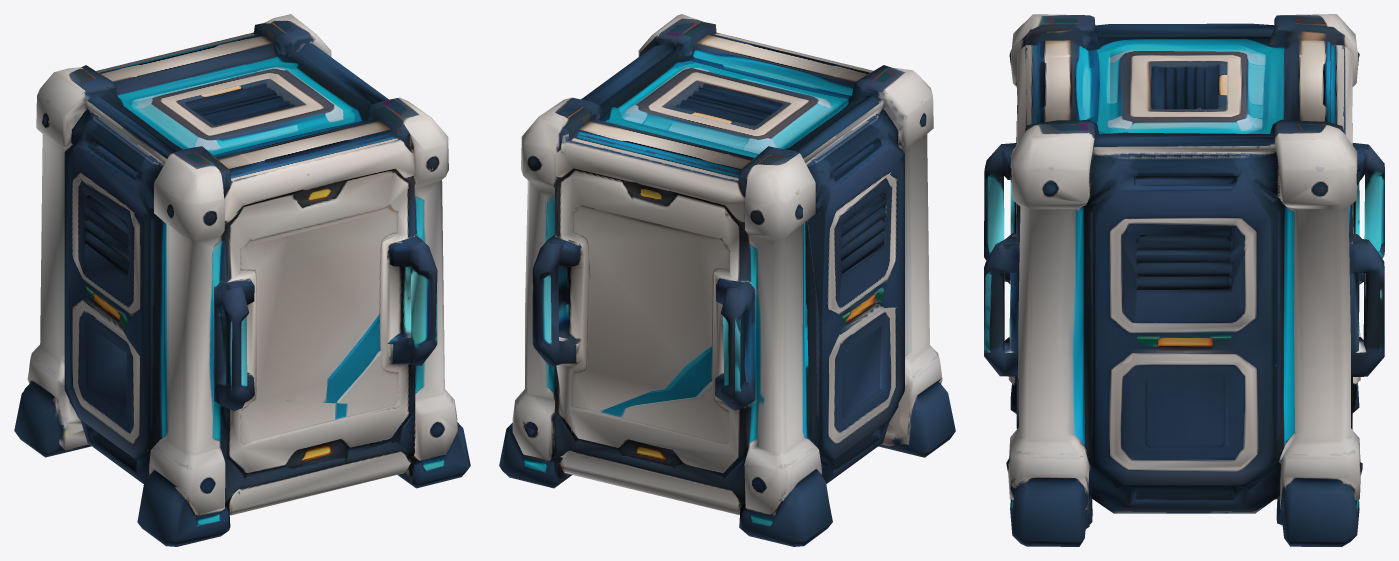
The model's file is cryo-relay-cabinet_LOD0.glb.
3 renders of one model, left to right at view 1: azimuth 30°, elevation 25°; view 2: azimuth 150°, elevation 25°; view 3: azimuth 270°, elevation 25°, orthographic. The views are drawn at different scales.
Parts seen in each view (by area): view 1: cryo-relay-cabinet_LOD0; view 2: cryo-relay-cabinet_LOD0; view 3: cryo-relay-cabinet_LOD0.
Boxes of the visible parts, box(x1,y1,x2,y2) form: cryo-relay-cabinet_LOD0: box(14, 14, 470, 546); cryo-relay-cabinet_LOD0: box(499, 14, 955, 546); cryo-relay-cabinet_LOD0: box(984, 14, 1384, 546).
Bounding box in the file's own units: 1.41 × 1.6 × 1.47.
1 material, 1 textured.
